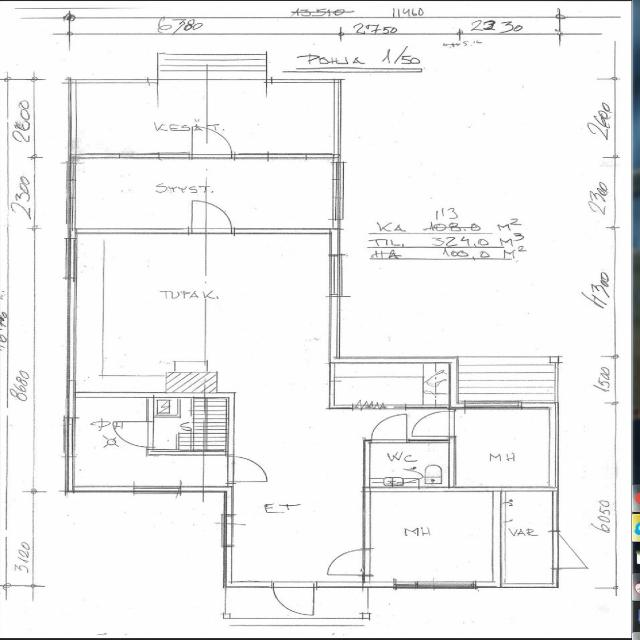door: (552, 532, 609, 568), (191, 125, 232, 159), (273, 582, 314, 616), (191, 200, 231, 233), (227, 456, 269, 482), (327, 550, 370, 575), (112, 422, 153, 447), (413, 412, 455, 436), (371, 415, 406, 443)
